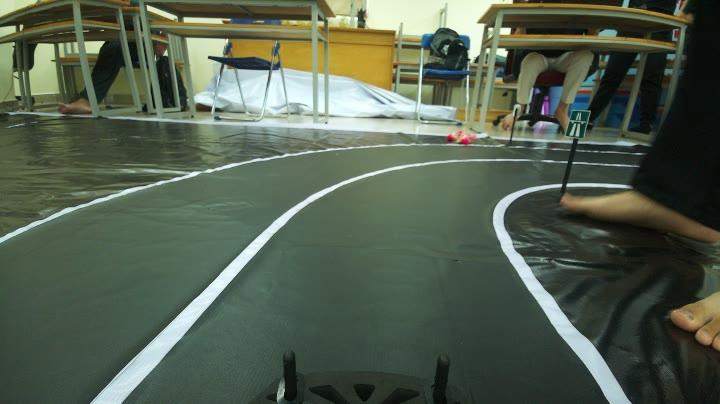highway_entry: (564, 108, 596, 140)
